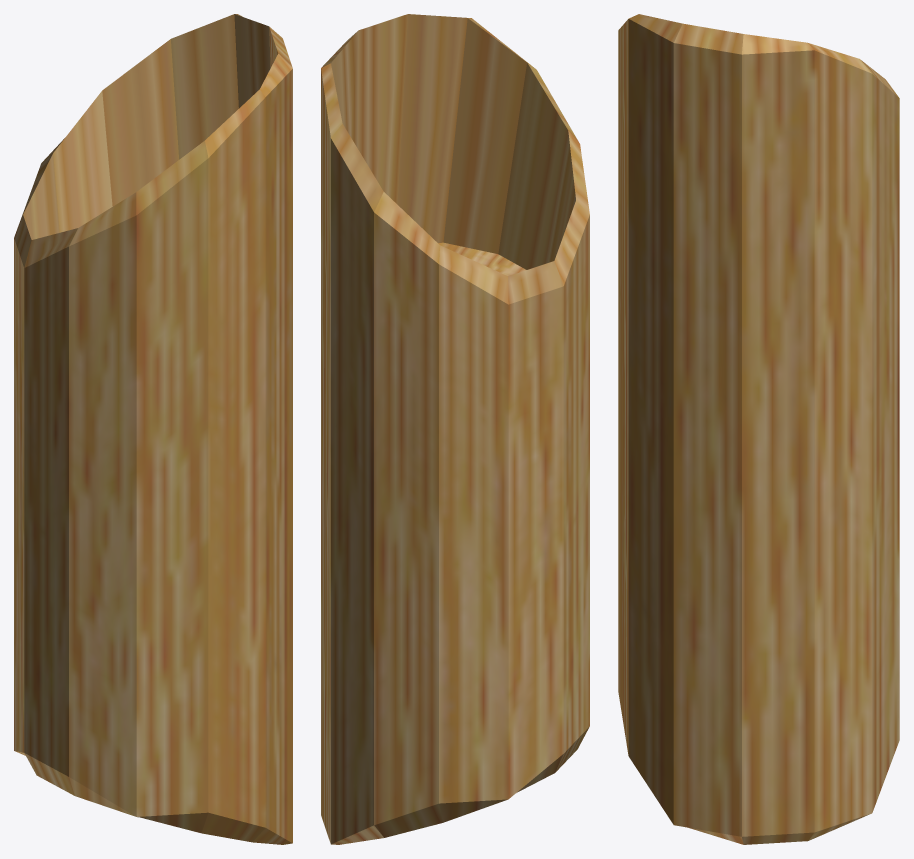
The model's file is body.obj.
3 renders of one model, left to right at view 1: azimuth 30°, elevation 25°; view 2: azimuth 150°, elevation 25°; view 3: azimuth 270°, elevation 25°, orthographic. The views are drawn at different scales.
Visible parts, largest first — view 1: body_Cylinder; view 2: body_Cylinder; view 3: body_Cylinder.
Boxes of the visible parts, x1,y1,x2,y2 form: body_Cylinder: [14, 14, 292, 844]; body_Cylinder: [321, 14, 589, 844]; body_Cylinder: [618, 14, 899, 844].
Size of the model in its own units: 0.5964 by 1.9 by 0.5964.
